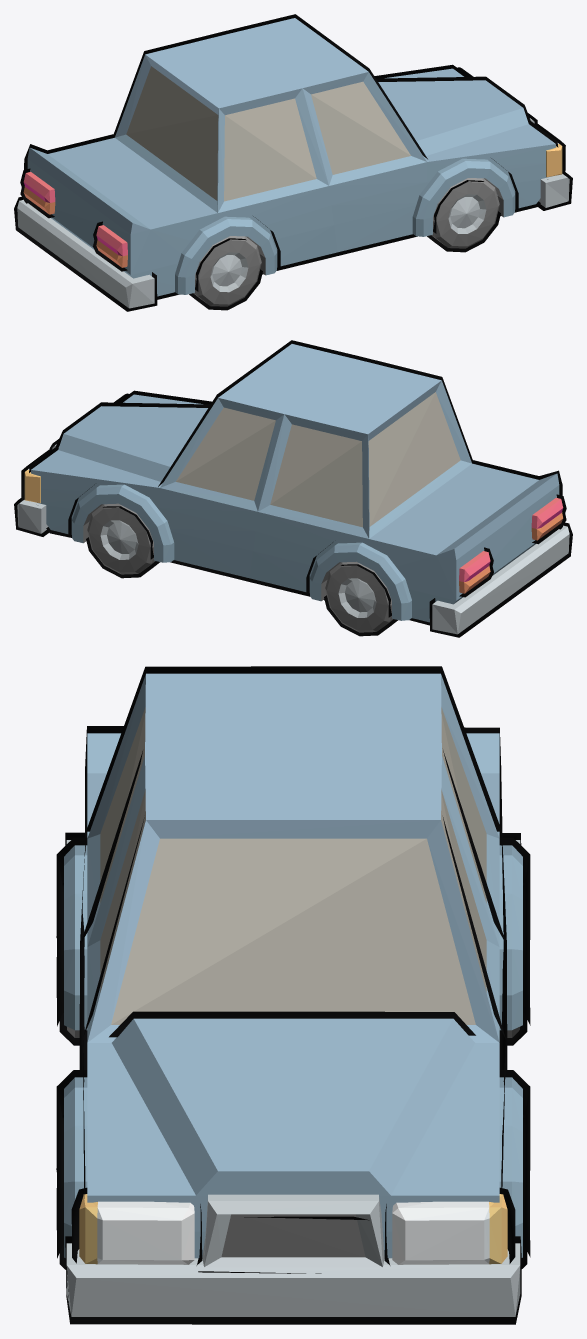
The model's file is BR_Auto_Limousine.glb.
The picture shows the model from 3 angles, top to bottom: view 1: azimuth 30°, elevation 25°; view 2: azimuth 150°, elevation 25°; view 3: azimuth 270°, elevation 25°; orthographic projection. The views are drawn at different scales.
Visible parts, largest first — view 1: BR_Auto_Limousine_Mesh, BR_Auto_Limousine_Outline; view 2: BR_Auto_Limousine_Mesh, BR_Auto_Limousine_Outline; view 3: BR_Auto_Limousine_Mesh, BR_Auto_Limousine_Outline.
Boxes of the visible parts, x1=… form: BR_Auto_Limousine_Mesh: x1=17, y1=18, x2=569, y2=308; BR_Auto_Limousine_Outline: x1=14, y1=14, x2=572, y2=311; BR_Auto_Limousine_Mesh: x1=17, y1=344, x2=569, y2=634; BR_Auto_Limousine_Outline: x1=14, y1=340, x2=572, y2=637; BR_Auto_Limousine_Mesh: x1=64, y1=673, x2=522, y2=1316; BR_Auto_Limousine_Outline: x1=56, y1=666, x2=530, y2=1324.
Bounding box in the file's own units: 4.09 × 1.65 × 1.86.
